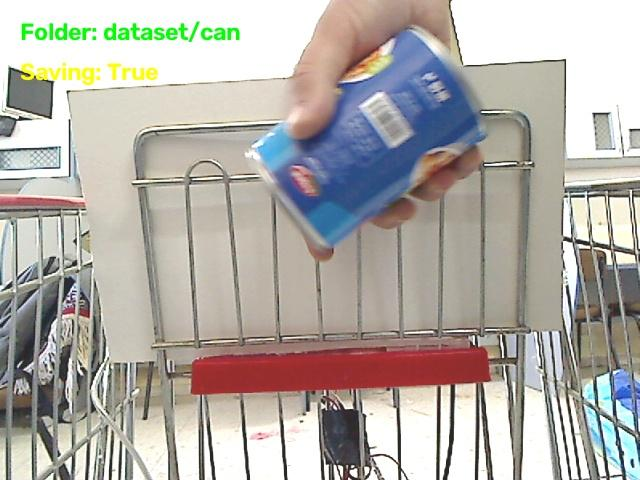can: (250, 28, 484, 247)
